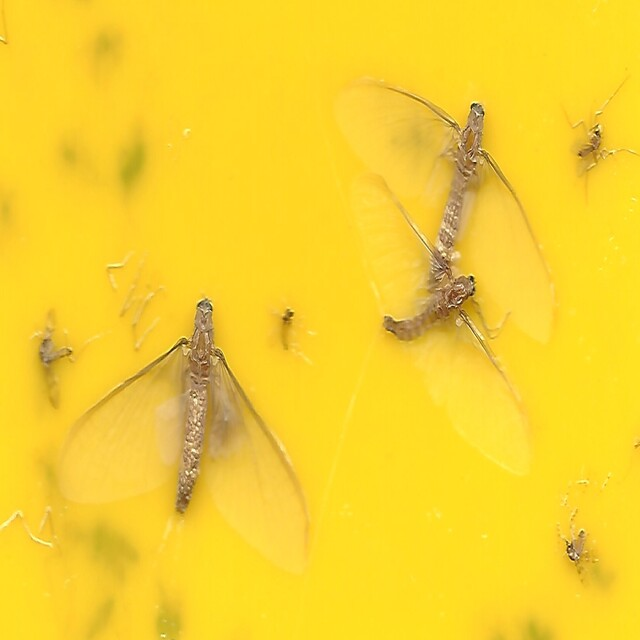Ephemeroptera: (59, 294, 314, 571), (339, 69, 558, 345), (368, 170, 536, 483)
Nematocera: (38, 300, 76, 414), (261, 300, 296, 359), (573, 115, 602, 179)
